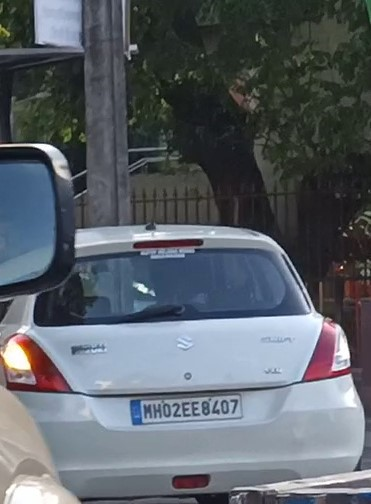MH02EE8407: (130, 393, 243, 425)
